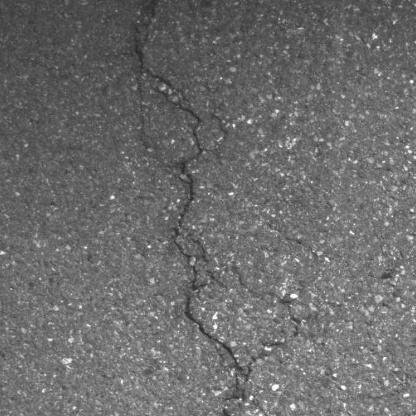Cracks: (131, 0, 260, 405), (210, 111, 231, 137), (252, 397, 277, 416)
